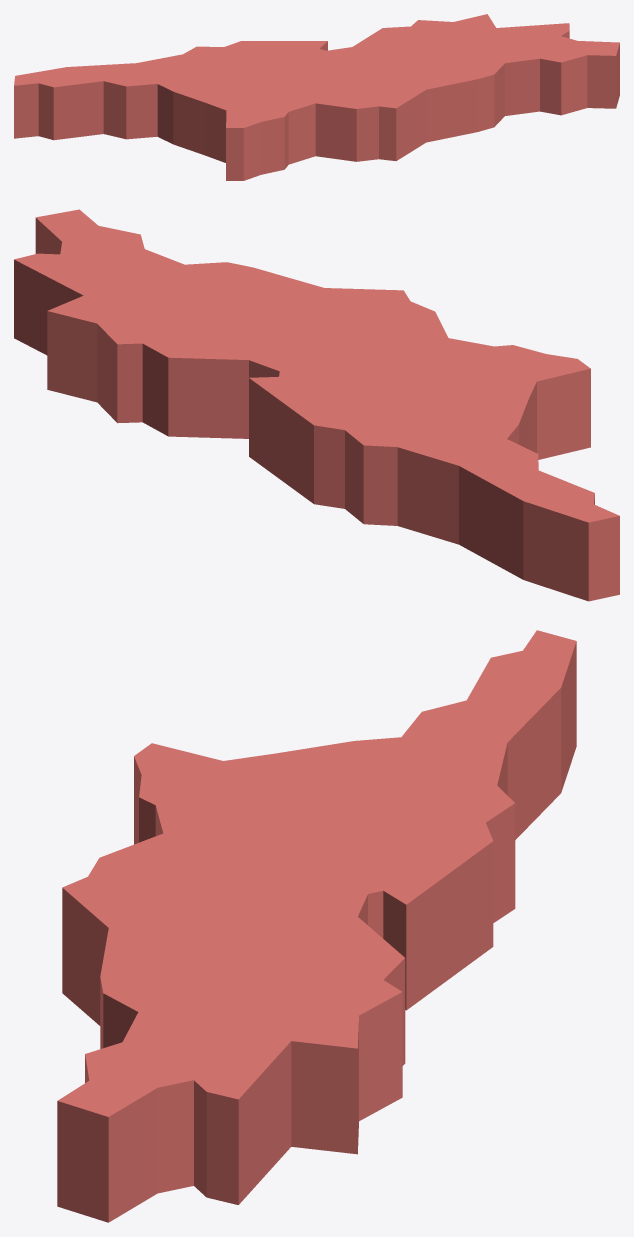
File: Georgia.fbx
The picture shows the model from 3 angles, top to bottom: view 1: azimuth 30°, elevation 25°; view 2: azimuth 150°, elevation 25°; view 3: azimuth 270°, elevation 25°; orthographic projection. The views are drawn at different scales.
Visible parts, largest first — view 1: Georgia; view 2: Georgia; view 3: Georgia.
Part boxes in pixels (box(x1,y1,x2,y2)): Georgia: box(14, 14, 619, 180); Georgia: box(14, 209, 619, 601); Georgia: box(57, 630, 576, 1222).
Bounding box in the file's own units: 12.94 × 1.31 × 5.83.
